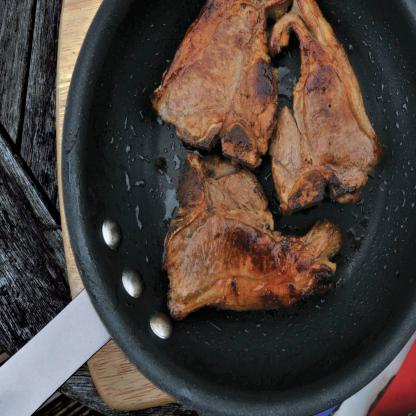Carne: (151, 165, 349, 305), (268, 0, 390, 209), (153, 0, 279, 176)
